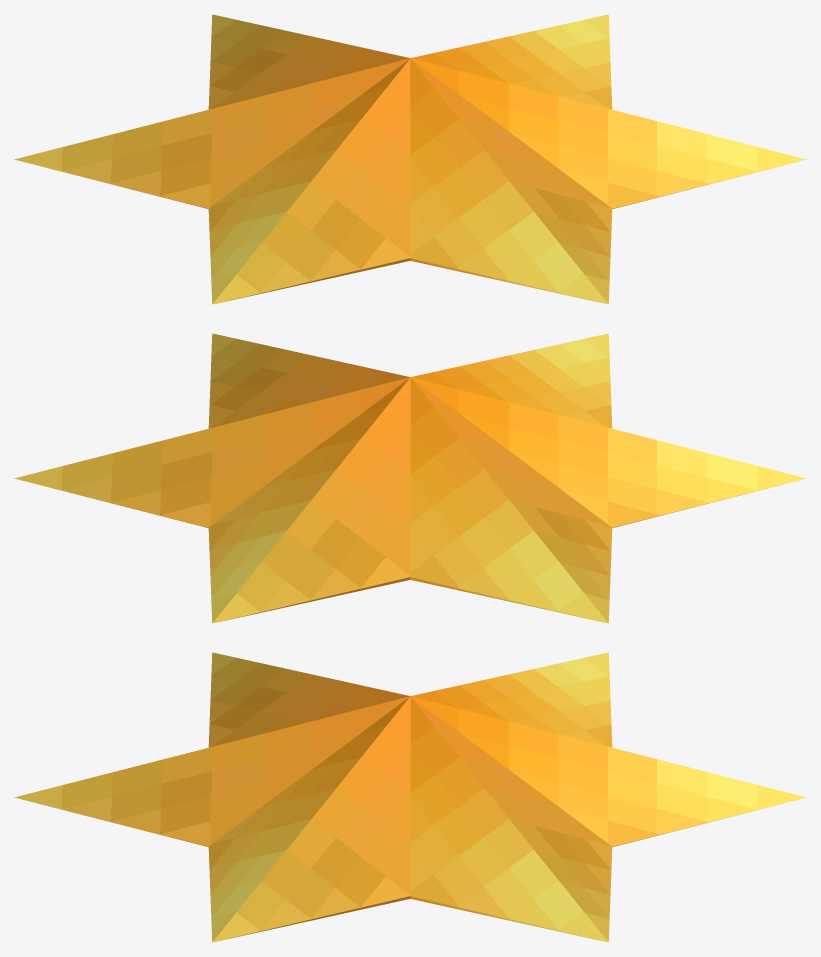
File: MagicBox02.glb
3 renders of one model, top to bottom at view 1: azimuth 30°, elevation 25°; view 2: azimuth 150°, elevation 25°; view 3: azimuth 270°, elevation 25°, orthographic.
Parts seen in each view (by area): view 1: model_MagicBox02; view 2: model_MagicBox02; view 3: model_MagicBox02.
Part boxes in pixels (x1,y1,x2,y2): model_MagicBox02: (14, 14, 806, 304); model_MagicBox02: (14, 333, 806, 623); model_MagicBox02: (14, 652, 806, 942).
Size of the model in its own units: 0.3448 by 0.1123 by 0.3981.
Materials: 1 (1 with a texture image).
